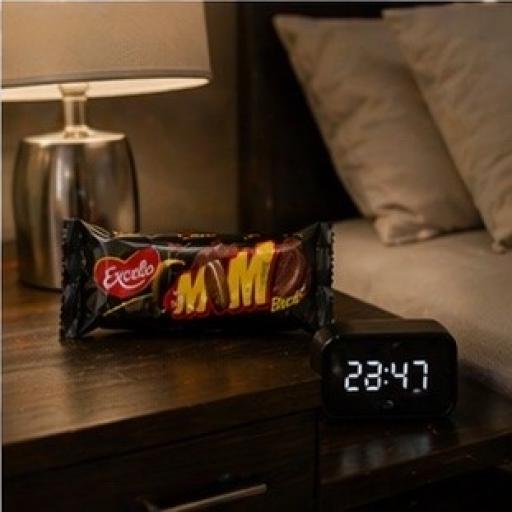MOMO: (43, 198, 379, 395)
